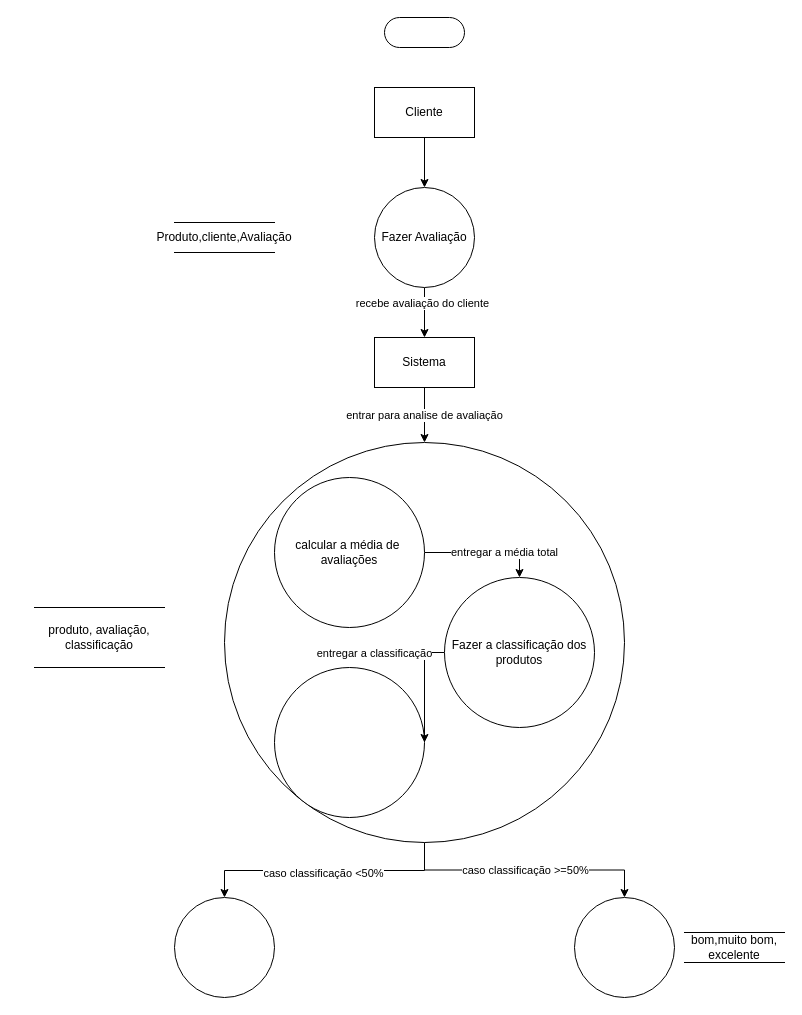
Image size: 802x1015. Some labels were removed from this diagram. The centre of each missing label's shape, as x and y in pixels:
Analisar a classificação do produto: point 349,742
Definir uma categoria para o produto: point 624,947
Desospedar produto: point 224,947
